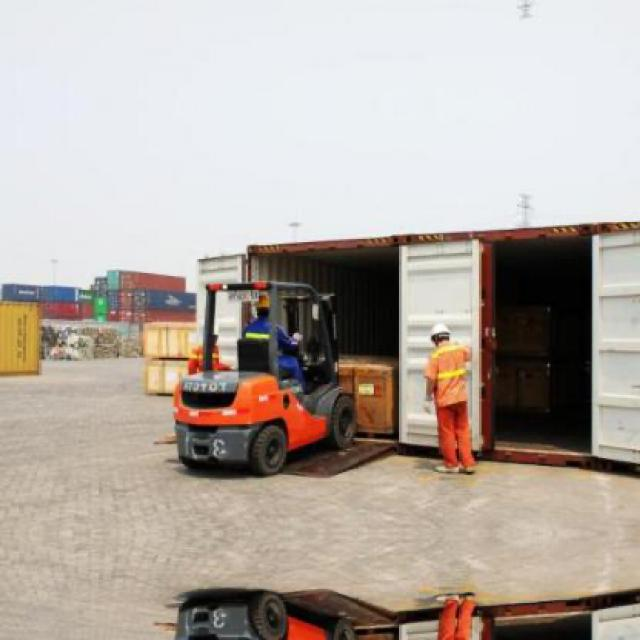helmet: (424, 321, 456, 350), (252, 290, 282, 318), (197, 318, 223, 346)
